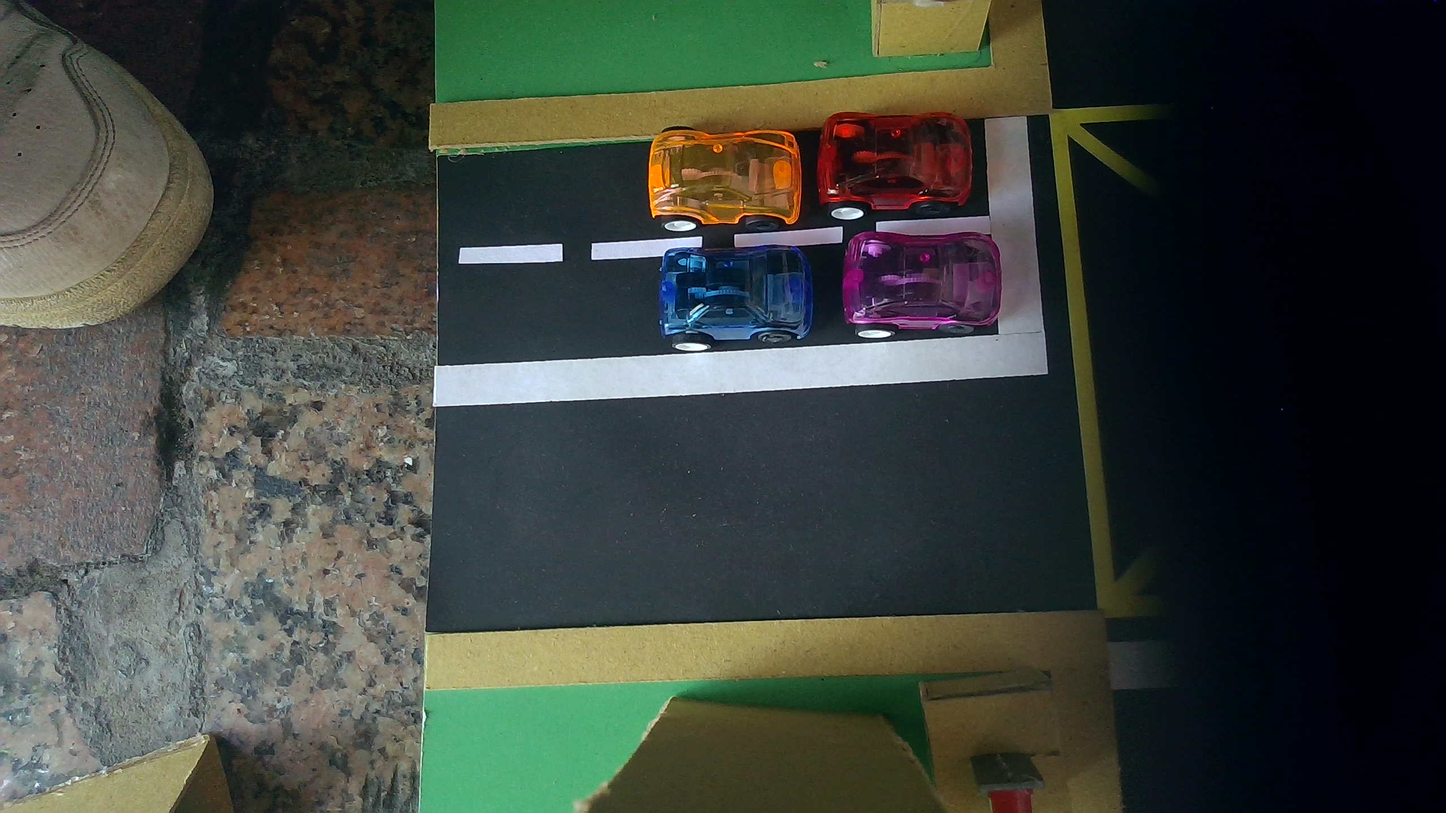Mobil biru: (658, 245, 813, 352)
Mobil merah: (816, 112, 973, 219)
Mobil orange: (647, 127, 803, 231)
Mobil ungu: (842, 231, 1002, 338)
